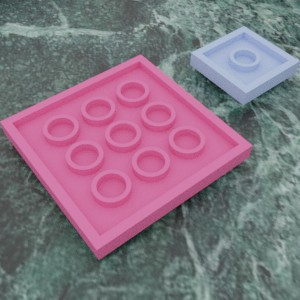lego: (0, 54, 252, 260), (190, 26, 300, 105)
